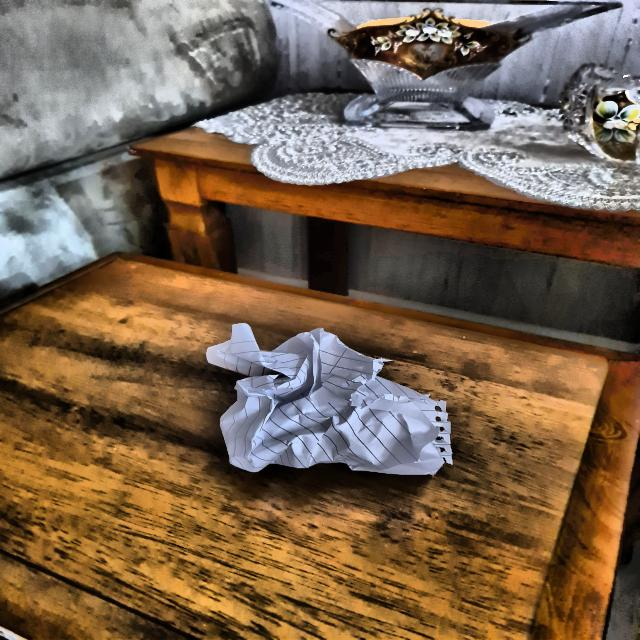Paper: (202, 321, 451, 478)
